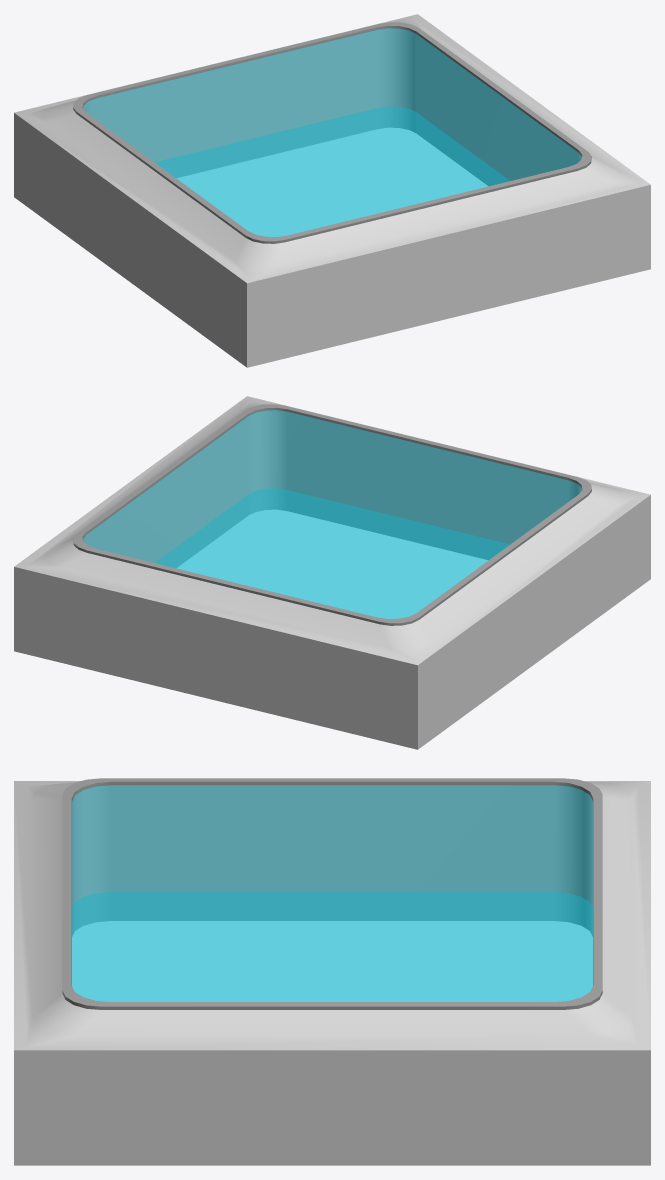
The model's file is Ceiling_Window.fbx.
3 views of the same model, one above another, from view 1: azimuth 30°, elevation 25°; view 2: azimuth 150°, elevation 25°; view 3: azimuth 270°, elevation 25° (orthographic). The views are drawn at different scales.
Parts seen in each view (by area): view 1: polySurface56, polySurface57, polySurface58; view 2: polySurface56, polySurface57, polySurface58; view 3: polySurface56, polySurface57, polySurface58.
Boxes of the visible parts, <box> form: polySurface56: <box>14,14,650,367</box>; polySurface57: <box>83,28,581,236</box>; polySurface58: <box>155,106,508,236</box>; polySurface56: <box>14,396,650,749</box>; polySurface57: <box>83,410,581,618</box>; polySurface58: <box>156,488,509,618</box>; polySurface56: <box>14,778,650,1165</box>; polySurface57: <box>72,785,592,1001</box>; polySurface58: <box>72,892,592,1001</box>.
Bounding box in the file's own units: 5 × 5 × 1.2.
